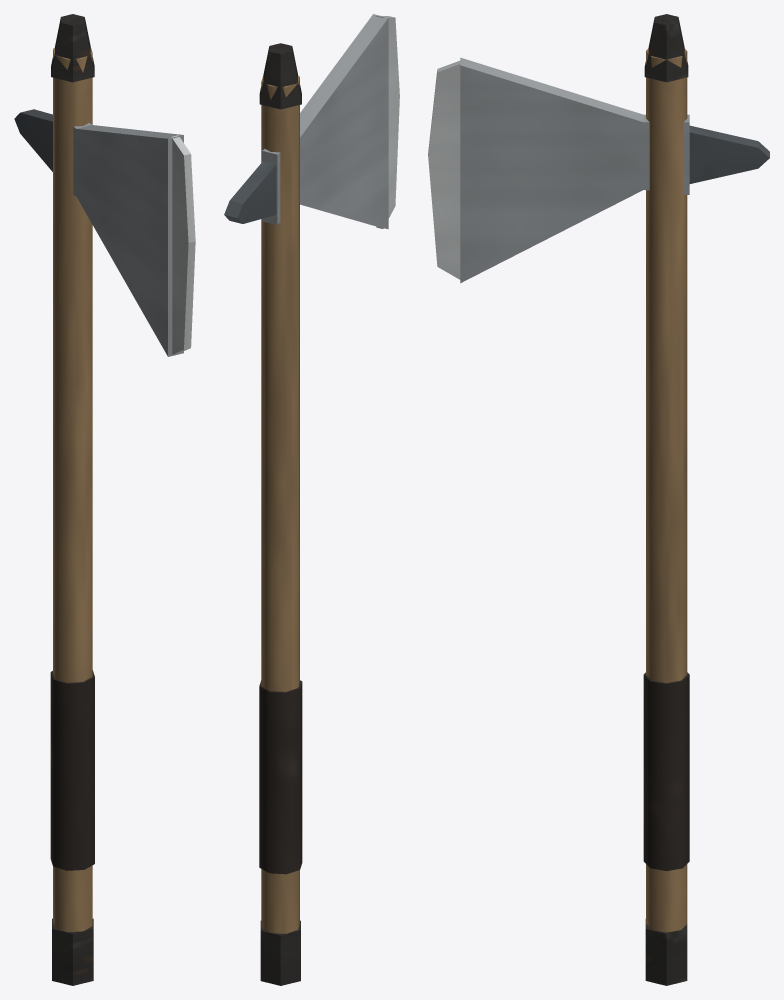
The model's file is battle_axe.obj.
3 views of the same model, side by side, from view 1: azimuth 30°, elevation 25°; view 2: azimuth 150°, elevation 25°; view 3: azimuth 270°, elevation 25° (orthographic). The views are drawn at different scales.
Parts seen in each view (by area): view 1: battle_axe; view 2: battle_axe; view 3: battle_axe.
Boxes of the visible parts, x1,y1,x2,y2 form: battle_axe: [14, 14, 195, 985]; battle_axe: [224, 14, 399, 985]; battle_axe: [428, 14, 769, 985].
Size of the model in its own units: 0.044 by 0.92 by 0.298.
1 material, 1 textured.
